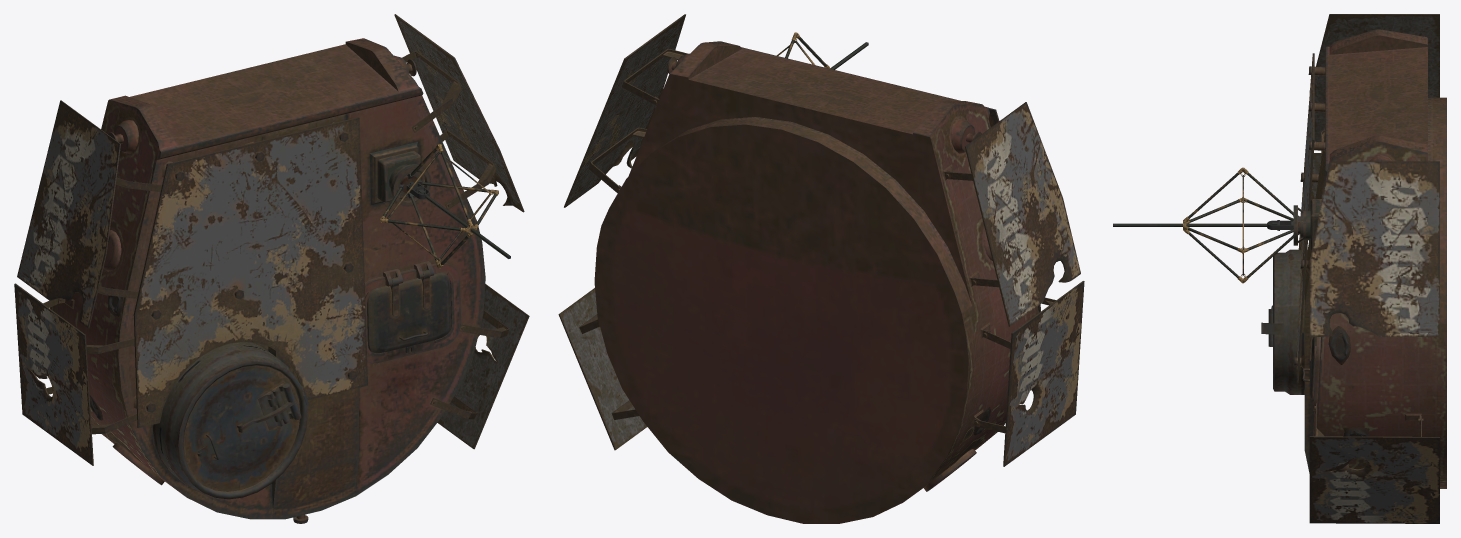
The model's file is Turret_01.glb.
3 views of the same model, side by side, from view 1: azimuth 30°, elevation 25°; view 2: azimuth 150°, elevation 25°; view 3: azimuth 270°, elevation 25° (orthographic). The views are drawn at different scales.
Parts seen in each view (by area): view 1: set_0_group_0, set_0_group_1, set_0_group_2; view 2: set_0_group_0, set_0_group_1; view 3: set_0_group_1, set_0_group_0, set_0_group_2, set_0_group_3.
Part boxes in pixels (left/top/right/bottom): set_0_group_0: left=50, top=38, right=485, bottom=523; set_0_group_1: left=14, top=14, right=529, bottom=465; set_0_group_2: left=377, top=144, right=510, bottom=268; set_0_group_0: left=594, top=41, right=1038, bottom=523; set_0_group_1: left=558, top=14, right=1084, bottom=466; set_0_group_1: left=1294, top=14, right=1439, bottom=523; set_0_group_0: left=1261, top=29, right=1446, bottom=488; set_0_group_2: left=1113, top=167, right=1321, bottom=283; set_0_group_3: left=1328, top=326, right=1369, bottom=436.
Size of the model in its own units: 2.9 by 2.63 by 2.03.
4 materials, 4 textured.
